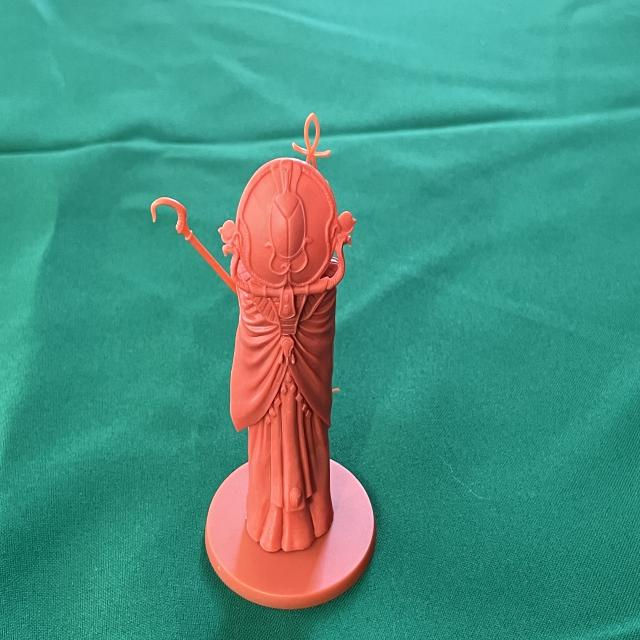amon: (144, 108, 380, 615)
